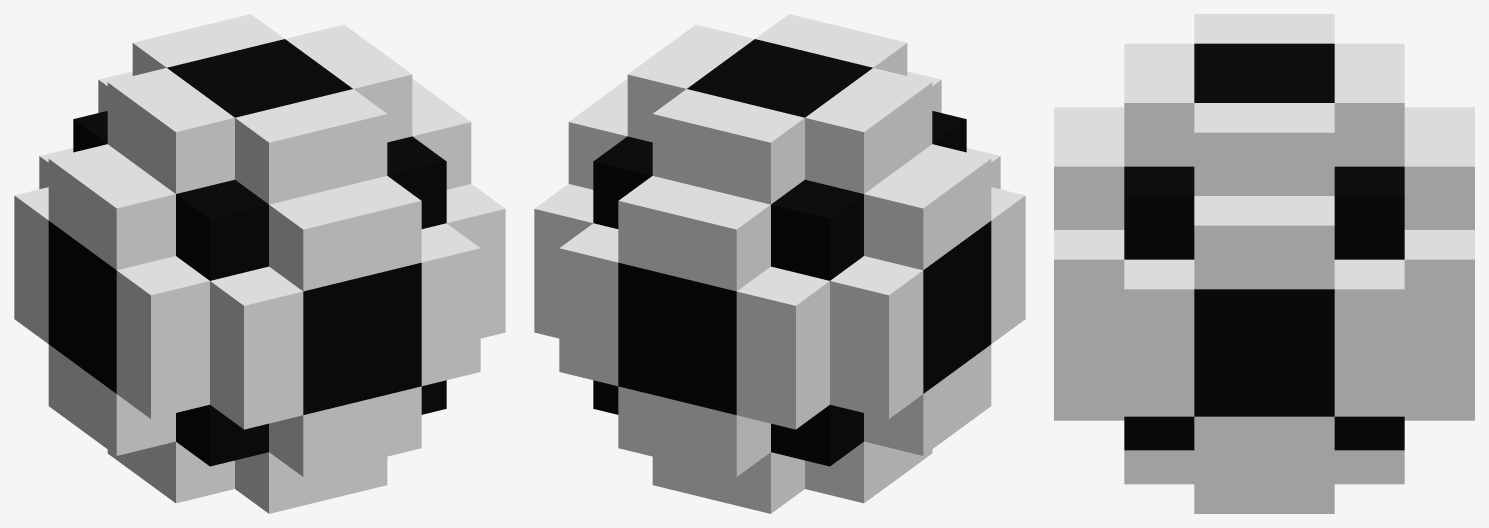
File: boladefutebol.obj
3 views of the same model, side by side, from view 1: azimuth 30°, elevation 25°; view 2: azimuth 150°, elevation 25°; view 3: azimuth 270°, elevation 25° (orthographic). The views are drawn at different scales.
Size of the model in its own units: 0.6 by 0.6 by 0.6.
Materials: 1 (1 with a texture image).
